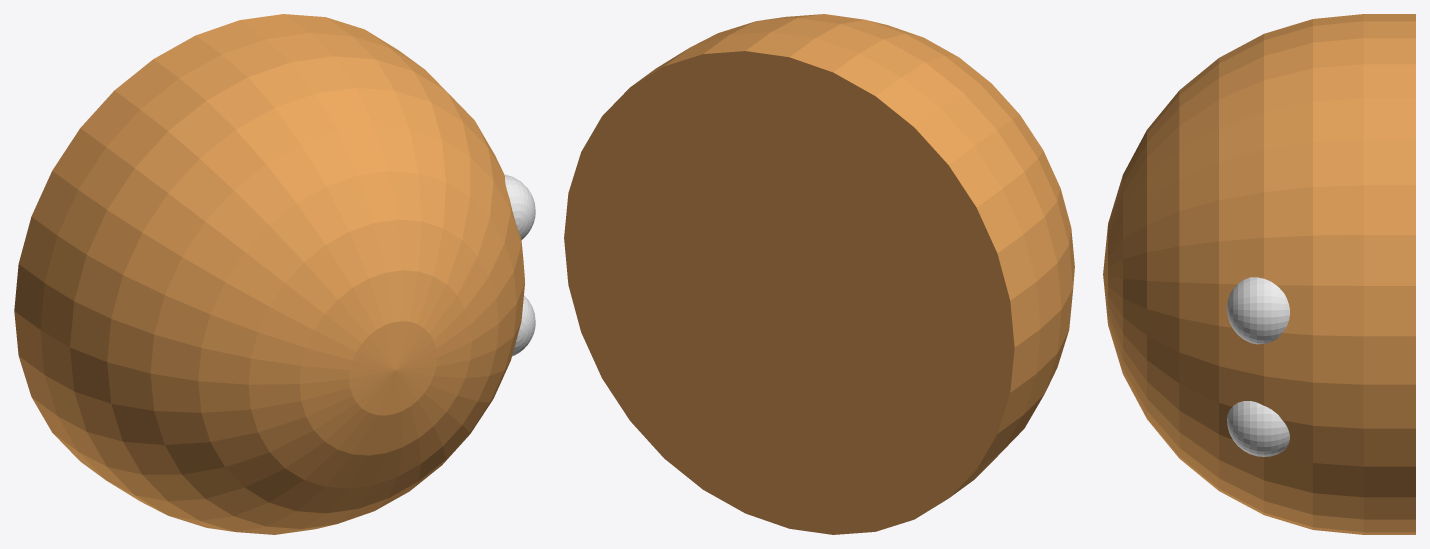
File: robot-head.glb
The picture shows the model from 3 angles, left to right: view 1: azimuth 30°, elevation 25°; view 2: azimuth 150°, elevation 25°; view 3: azimuth 270°, elevation 25°; orthographic projection.
Visible parts, largest first — view 1: shadeGreen_Head, shadeBlack; view 2: shadeGreen_Head; view 3: shadeGreen_Head, shadeBlack.
Part boxes in pixels (left/top/right/bottom): shadeGreen_Head: left=14, top=14, right=524, bottom=534; shadeBlack: left=504, top=174, right=535, bottom=356; shadeGreen_Head: left=564, top=14, right=1074, bottom=534; shadeGreen_Head: left=1103, top=14, right=1415, bottom=534; shadeBlack: left=1227, top=277, right=1289, bottom=456.
Size of the model in its own units: 1.4 by 1.4 by 0.84.
